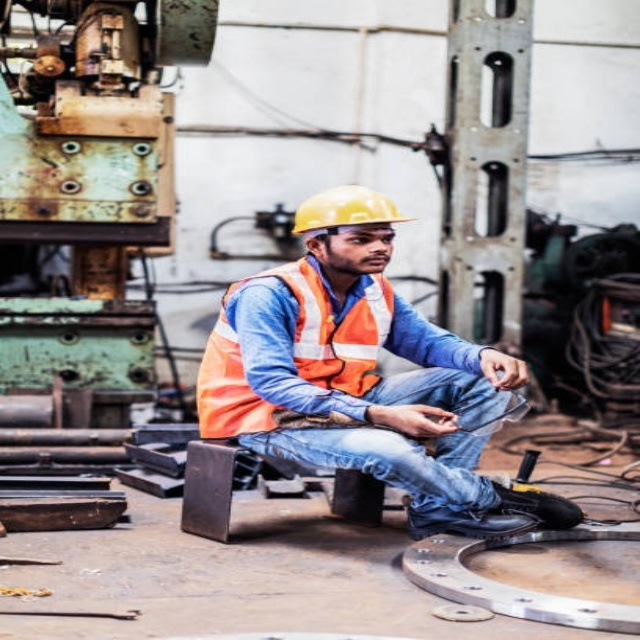Sin_gafas: (337, 226, 402, 246)
Sin_guantes: (376, 398, 463, 438), (478, 345, 536, 392)
Sin_mascara: (356, 251, 395, 270)
